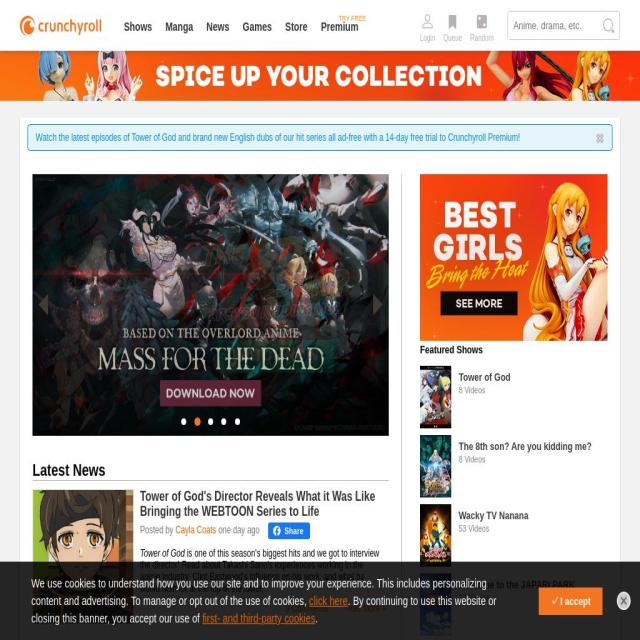button: (0, 50, 640, 101), (33, 488, 134, 627), (418, 362, 608, 432), (418, 431, 608, 501), (418, 500, 608, 570), (418, 569, 608, 639), (140, 488, 386, 520), (315, 13, 364, 40), (118, 13, 158, 40), (160, 13, 200, 40), (237, 13, 277, 40), (279, 13, 314, 40), (201, 13, 235, 40), (470, 11, 494, 42), (443, 11, 463, 42), (598, 11, 620, 39), (420, 11, 436, 42), (550, 595, 591, 607), (418, 638, 608, 640)
field: (508, 11, 599, 39)
heading: (420, 342, 608, 356), (20, 15, 101, 37), (33, 460, 106, 479)
iframe: (268, 522, 311, 539)
image: (32, 173, 388, 436), (0, 50, 640, 101), (420, 173, 608, 341), (32, 488, 132, 622), (420, 434, 451, 498), (420, 503, 451, 567), (420, 572, 451, 636), (420, 365, 451, 428), (420, 10, 436, 32), (445, 10, 461, 32), (474, 10, 490, 32), (601, 15, 617, 36), (373, 293, 383, 317), (621, 592, 634, 610), (39, 293, 48, 317), (596, 131, 606, 145), (180, 416, 188, 426)
link: (36, 131, 520, 143), (202, 612, 316, 625), (309, 594, 348, 608), (285, 602, 330, 614), (175, 523, 216, 536), (346, 602, 386, 614), (338, 14, 366, 23)
text: (31, 576, 487, 608), (31, 594, 496, 625), (140, 547, 379, 594), (458, 368, 604, 385), (458, 438, 604, 454), (458, 507, 604, 523), (458, 576, 604, 592), (458, 522, 604, 534), (458, 384, 604, 395), (458, 454, 604, 464), (458, 592, 604, 602), (216, 523, 260, 536), (140, 547, 185, 559), (321, 20, 358, 33), (140, 523, 176, 536), (470, 32, 494, 42), (443, 32, 463, 42), (420, 32, 436, 42), (315, 612, 318, 625)
